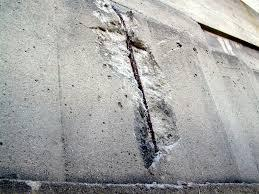exposed_rebar: (113, 7, 158, 153)
spalling: (94, 0, 180, 169)
